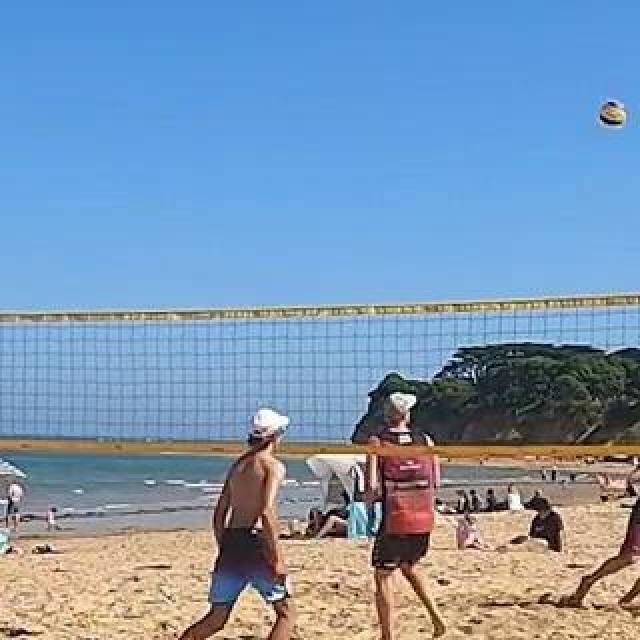volleyball: (599, 101, 625, 127)
